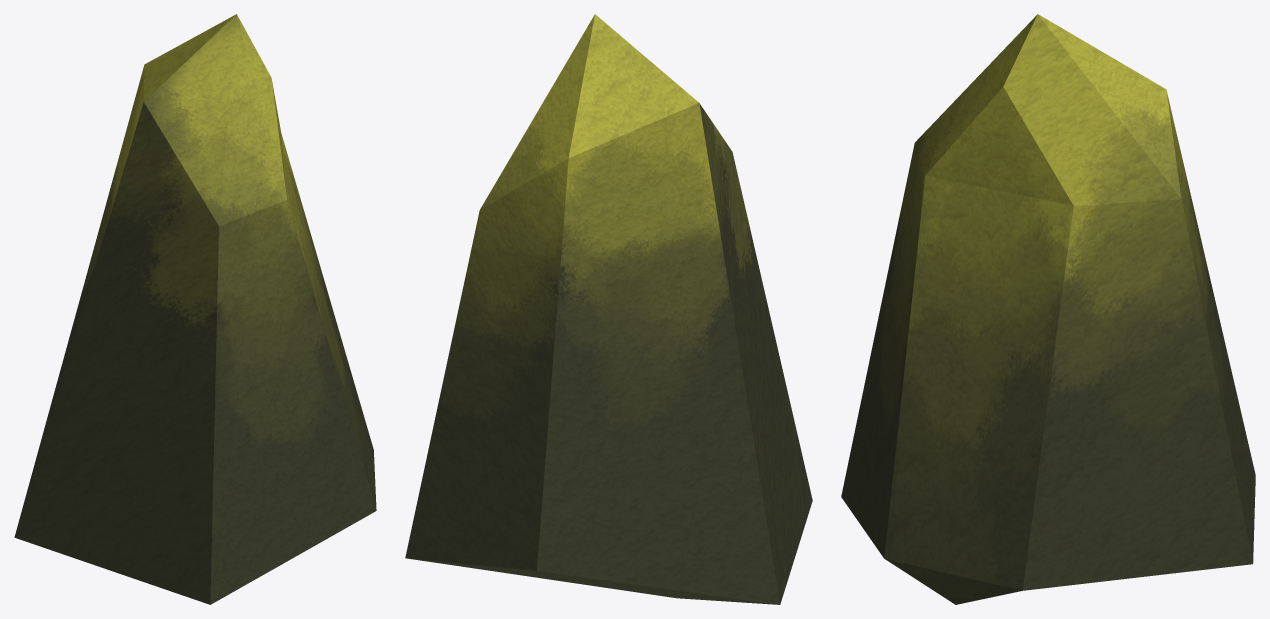
The model's file is ore2.fbx.
3 views of the same model, side by side, from view 1: azimuth 30°, elevation 25°; view 2: azimuth 150°, elevation 25°; view 3: azimuth 270°, elevation 25° (orthographic). The views are drawn at different scales.
Visible parts, largest first — view 1: Cylinder.002; view 2: Cylinder.002; view 3: Cylinder.002.
Boxes of the visible parts, x1,y1,x2,y2 form: Cylinder.002: [14, 14, 376, 604]; Cylinder.002: [405, 14, 812, 604]; Cylinder.002: [841, 14, 1255, 604].
Bounding box in the file's own units: 253 × 397 × 254.
